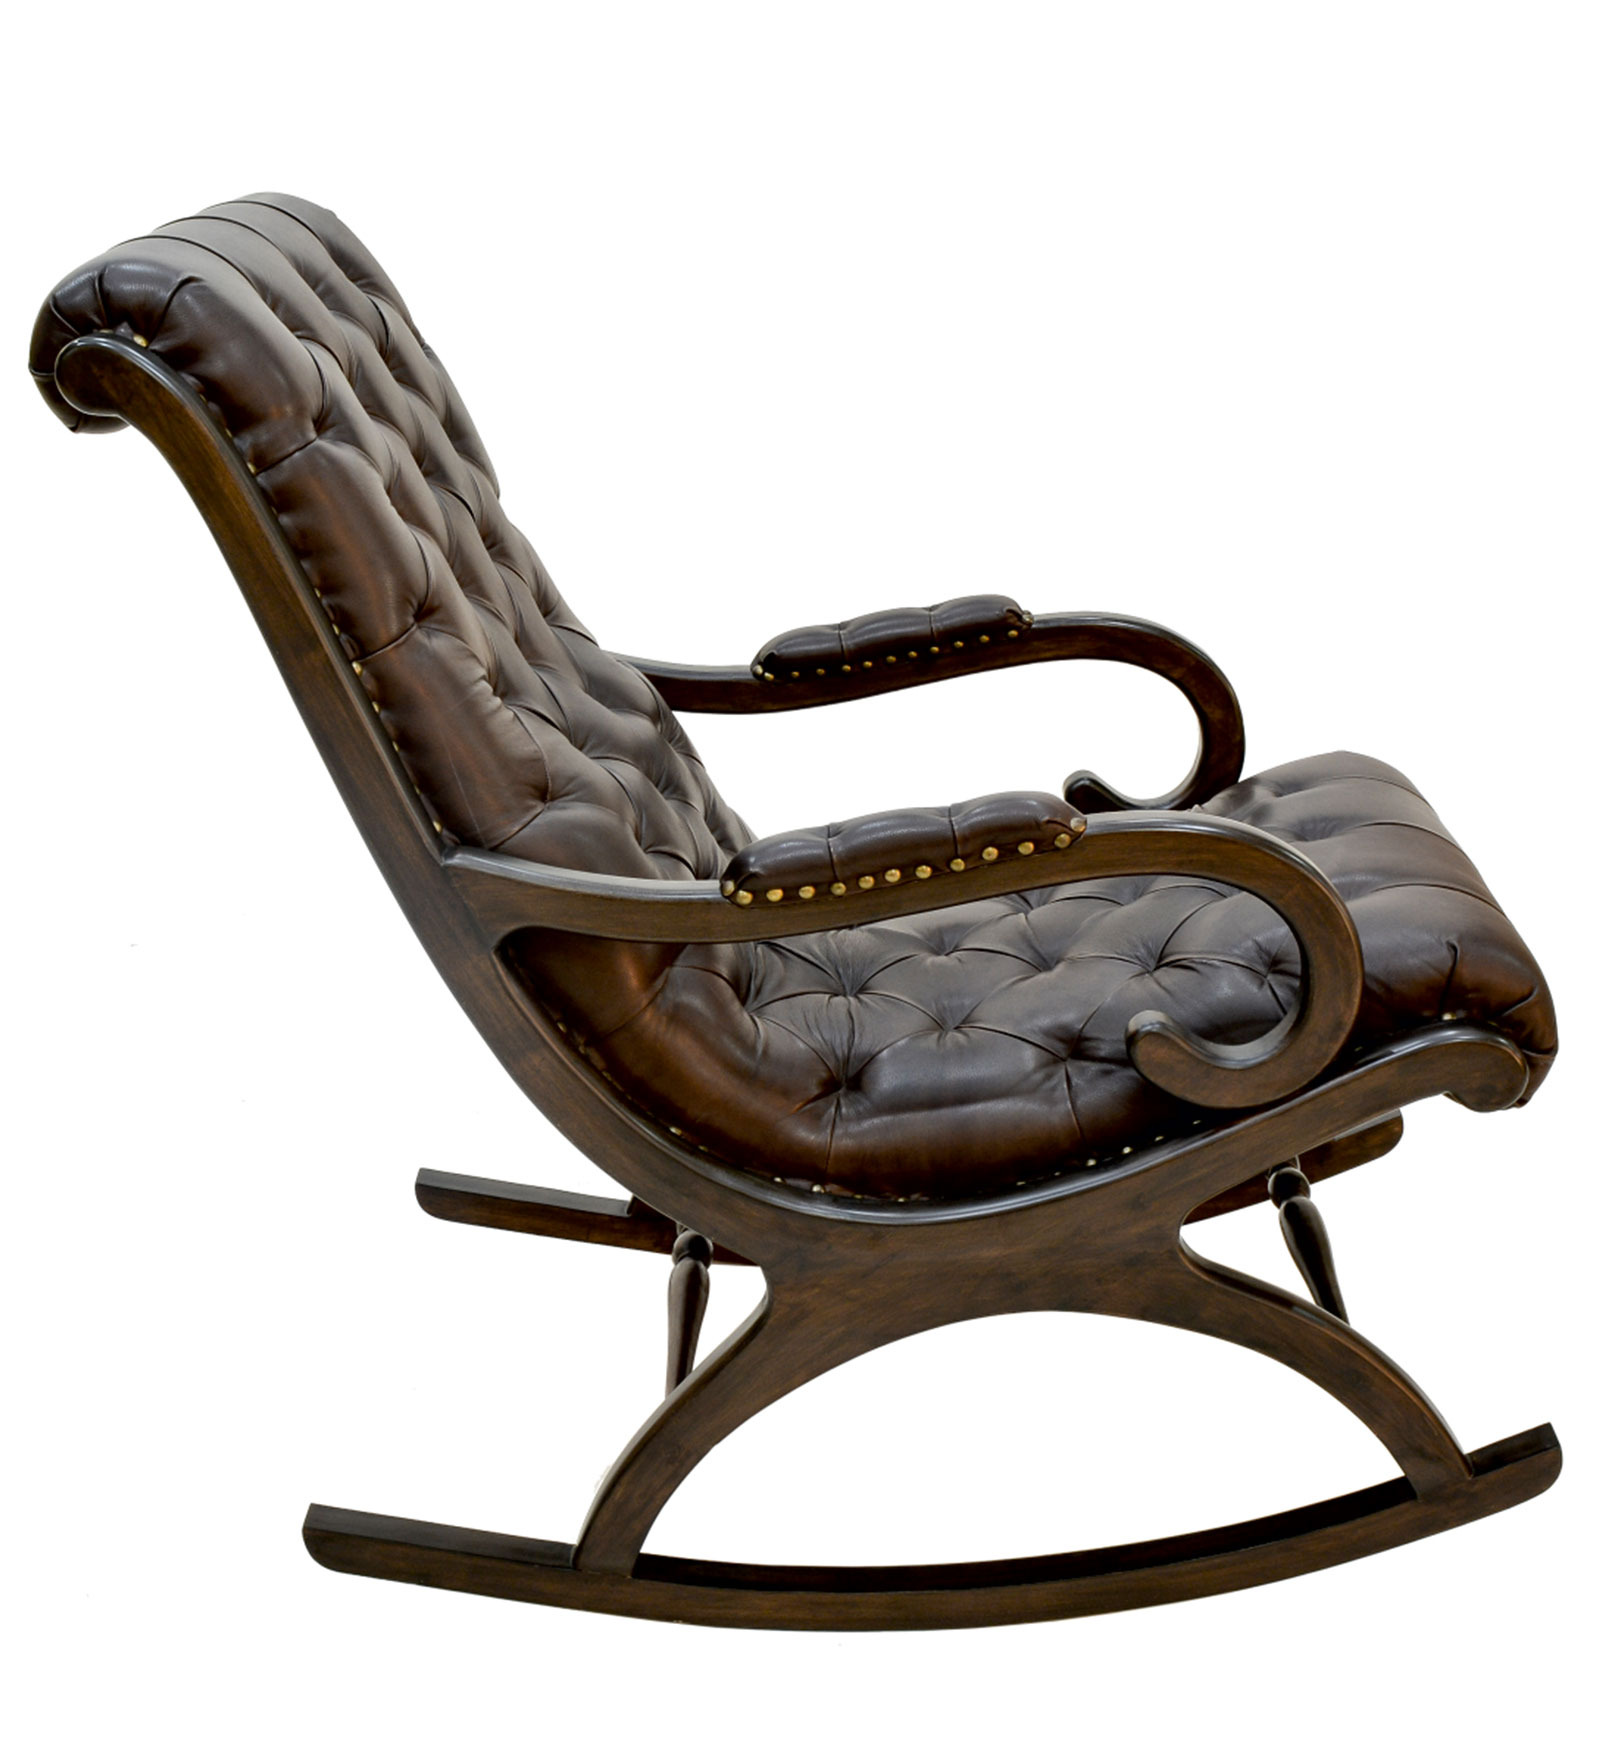Rapheal Rocking Chair in Dark Brown Pure Italian Leather by INDOORS: (23, 133, 1583, 1660)
